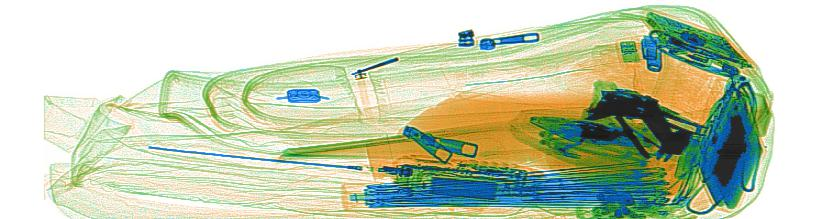USBFlashDisk: (616, 37, 641, 64)
